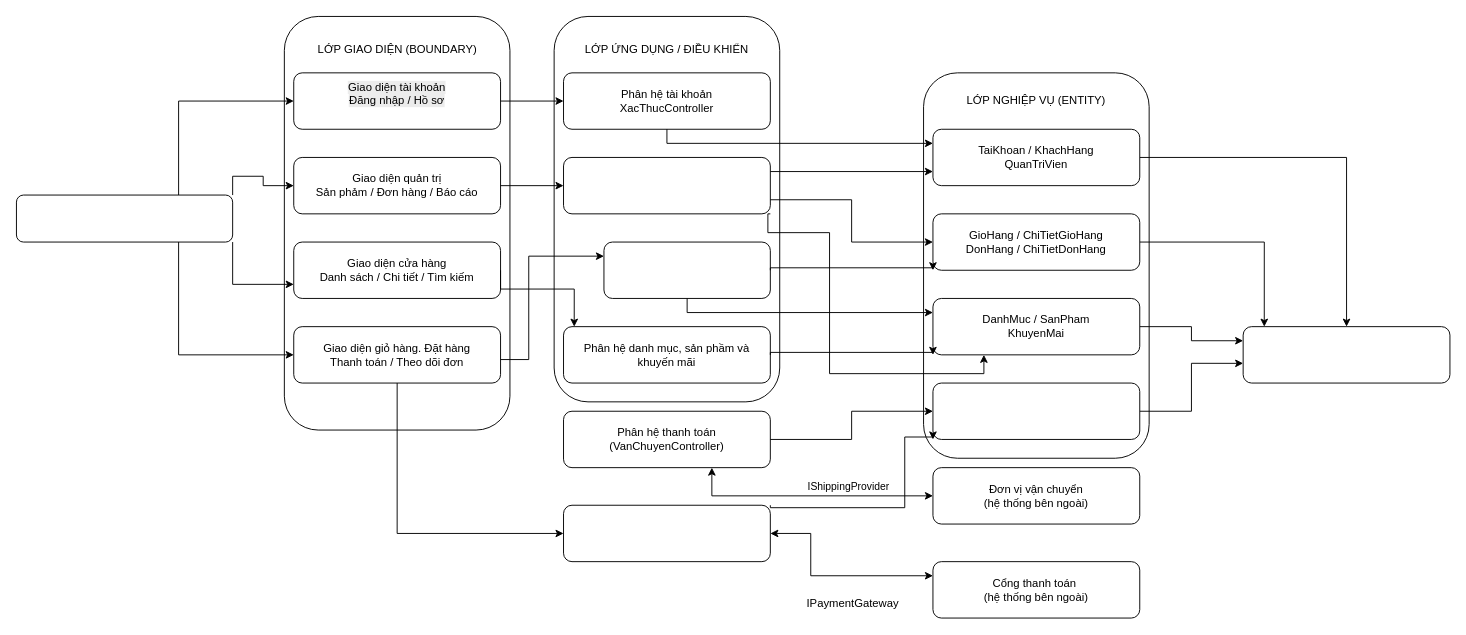
Image size: 1466x635. Some labels were removed from this diagram. Here are the shapes that lost their labels. From the top down, the centre of each, then its label:
the point at 666,185: Phân hệ quản trị Quản lý dữ liệu, thống kê
the point at 124,218: TÁC NHÂN Khách hàng/ vãng lai Quản trị viên
the point at 686,269: Phân hệ giỏ hàng và đơn hàng
the point at 1346,354: LỚP LƯU TRỮ RESPOSITORY / CSDL
the point at 1036,410: ThanhToan / VanChuyen
the point at 666,533: Phân hệ thanh toán ThanhToanController
